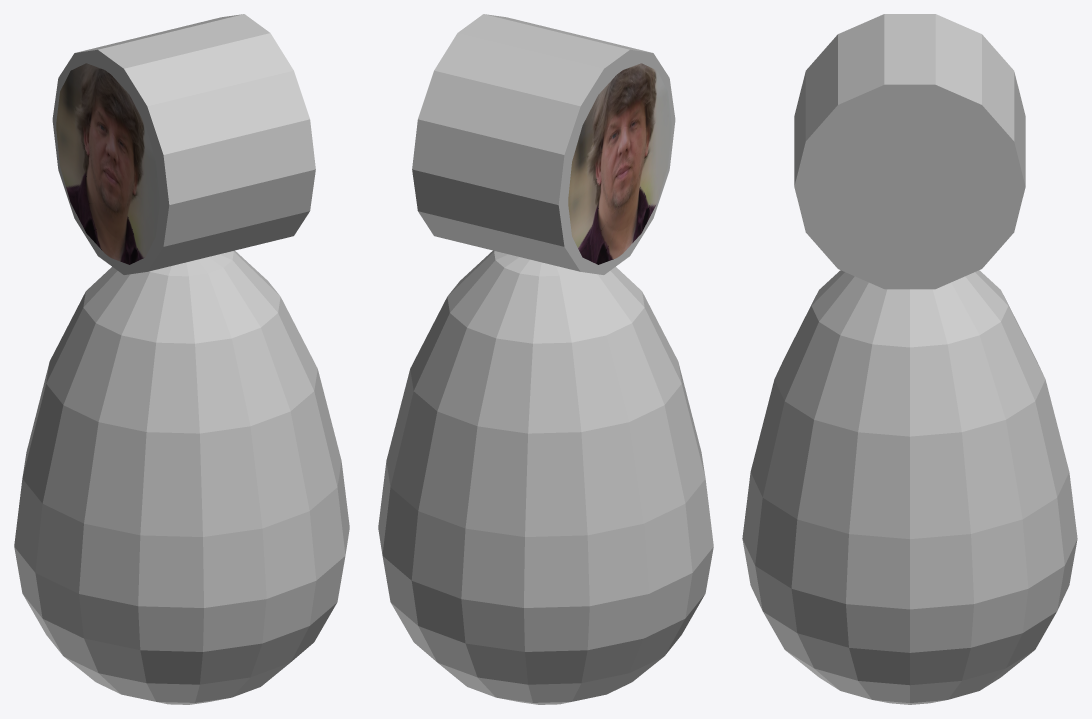
Rendered from TeachersModel-Mitch.obj.
3 renders of one model, left to right at view 1: azimuth 30°, elevation 25°; view 2: azimuth 150°, elevation 25°; view 3: azimuth 270°, elevation 25°, orthographic.
Visible parts, largest first — view 1: Sphere, Cylinder, Mitch; view 2: Sphere, Cylinder, Mitch; view 3: Sphere, Cylinder.
Part boxes in pixels (bbox=[...]): Sphere: bbox=[14, 250, 349, 704]; Cylinder: bbox=[52, 14, 315, 274]; Mitch: bbox=[56, 63, 159, 264]; Sphere: bbox=[378, 250, 713, 704]; Cylinder: bbox=[412, 14, 675, 274]; Mitch: bbox=[568, 63, 671, 264]; Sphere: bbox=[742, 270, 1077, 704]; Cylinder: bbox=[794, 14, 1025, 289].
Size of the model in its own units: 2 by 4.23 by 2.
